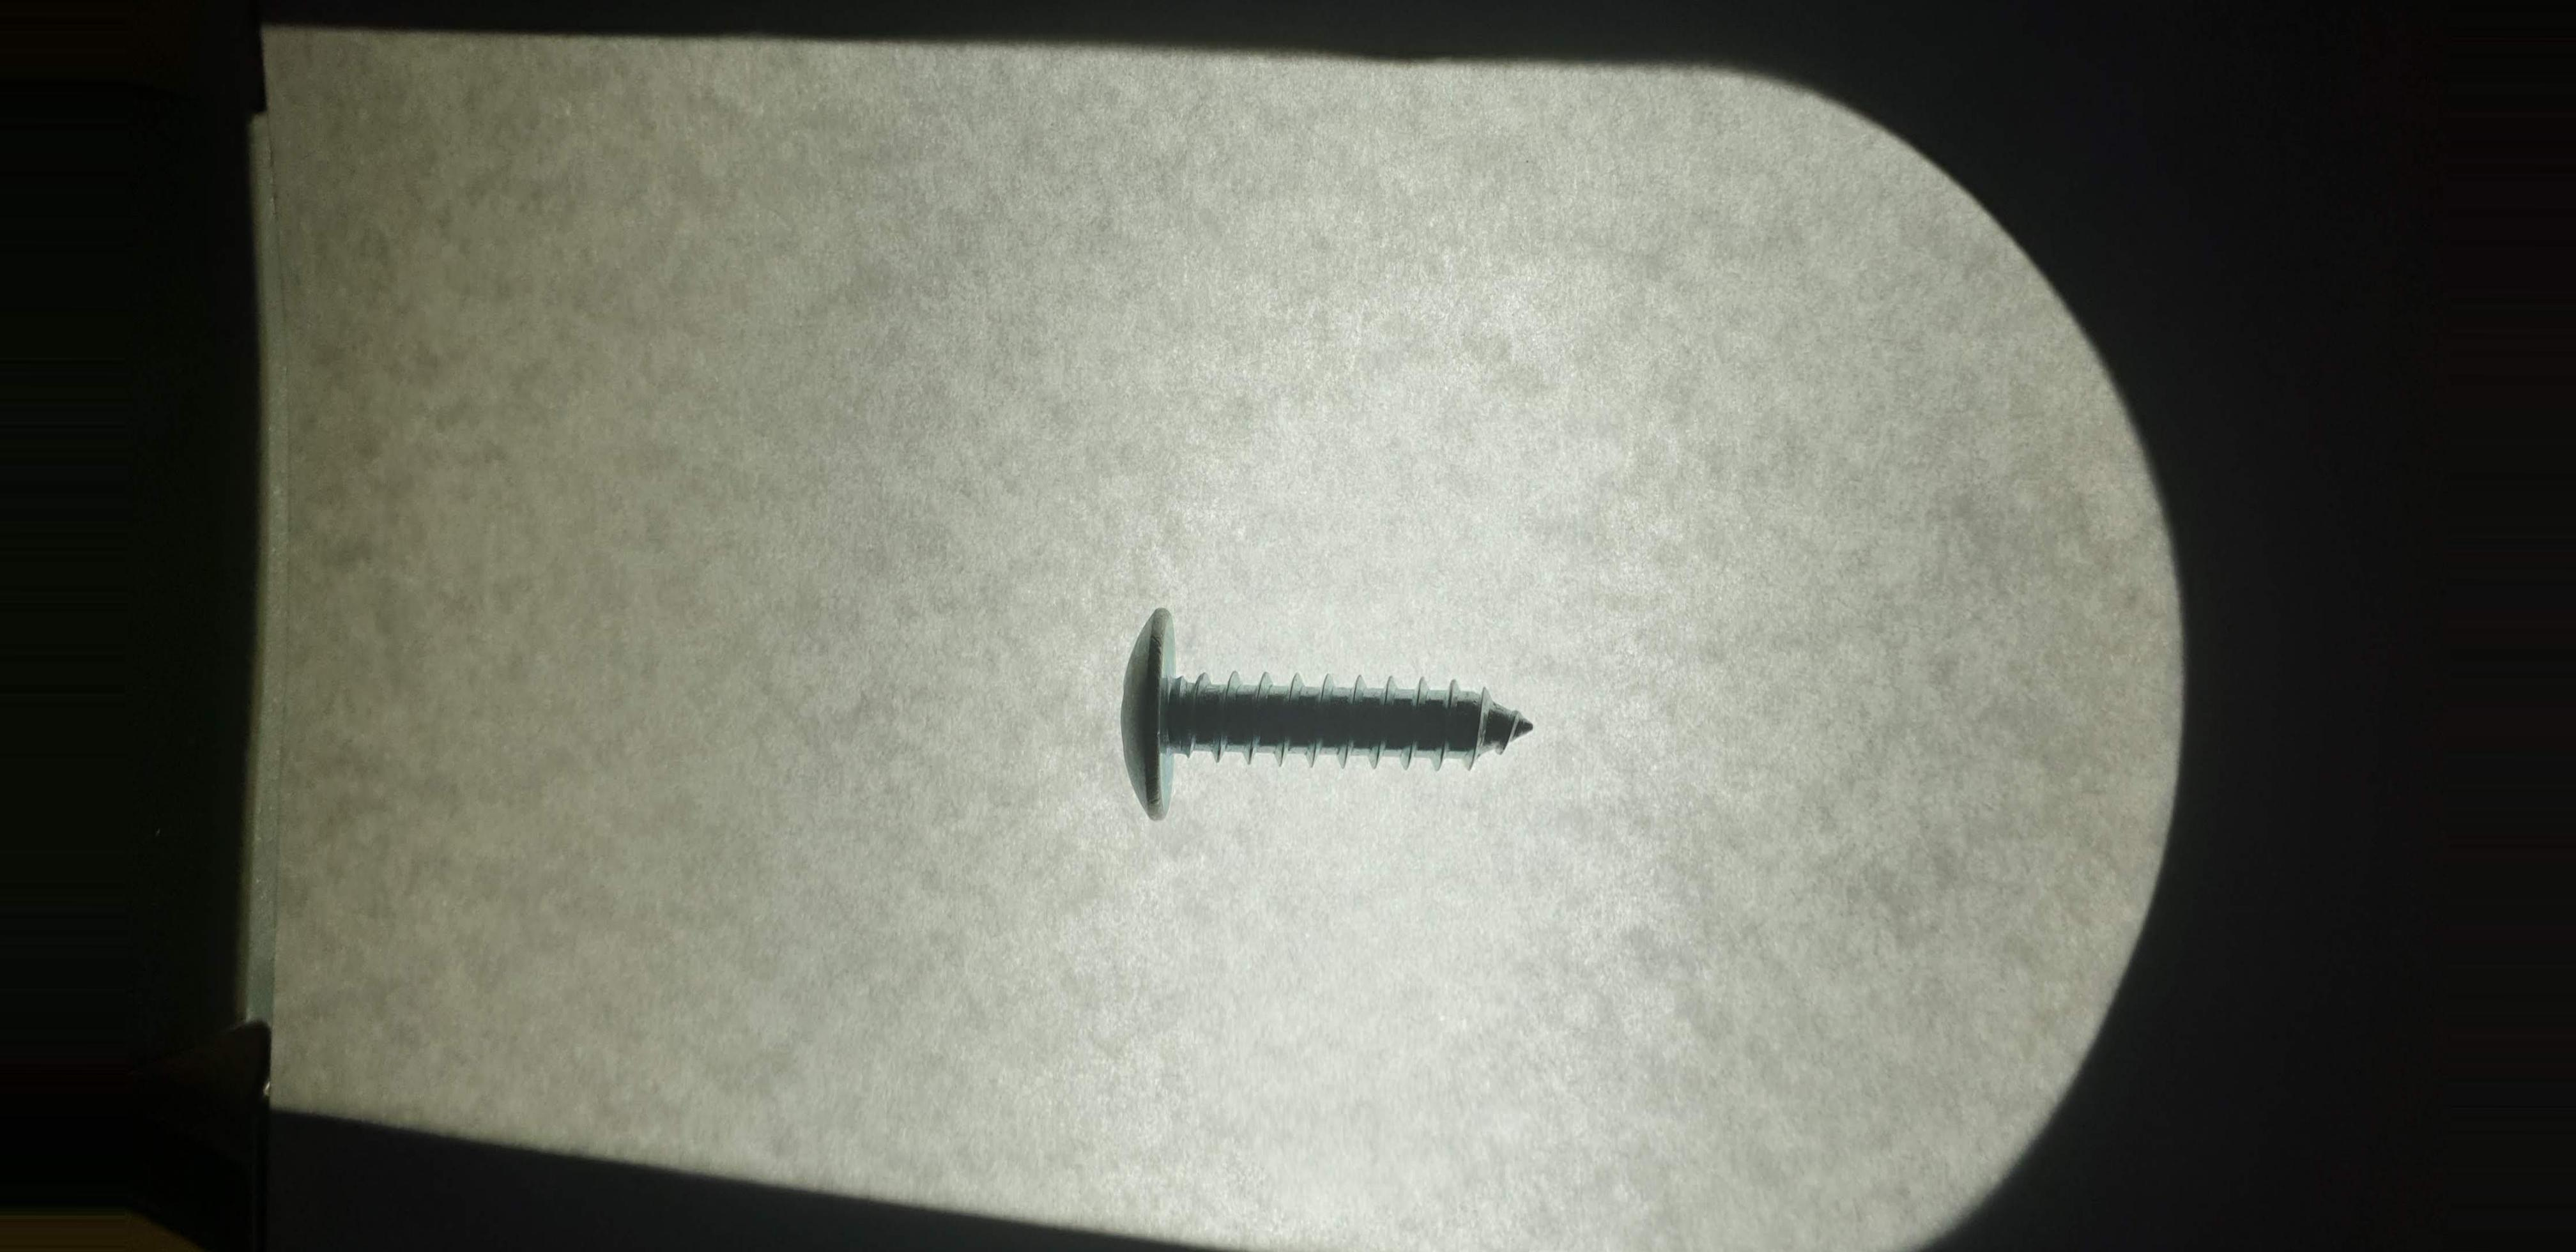S002: (1055, 587, 1587, 853)
